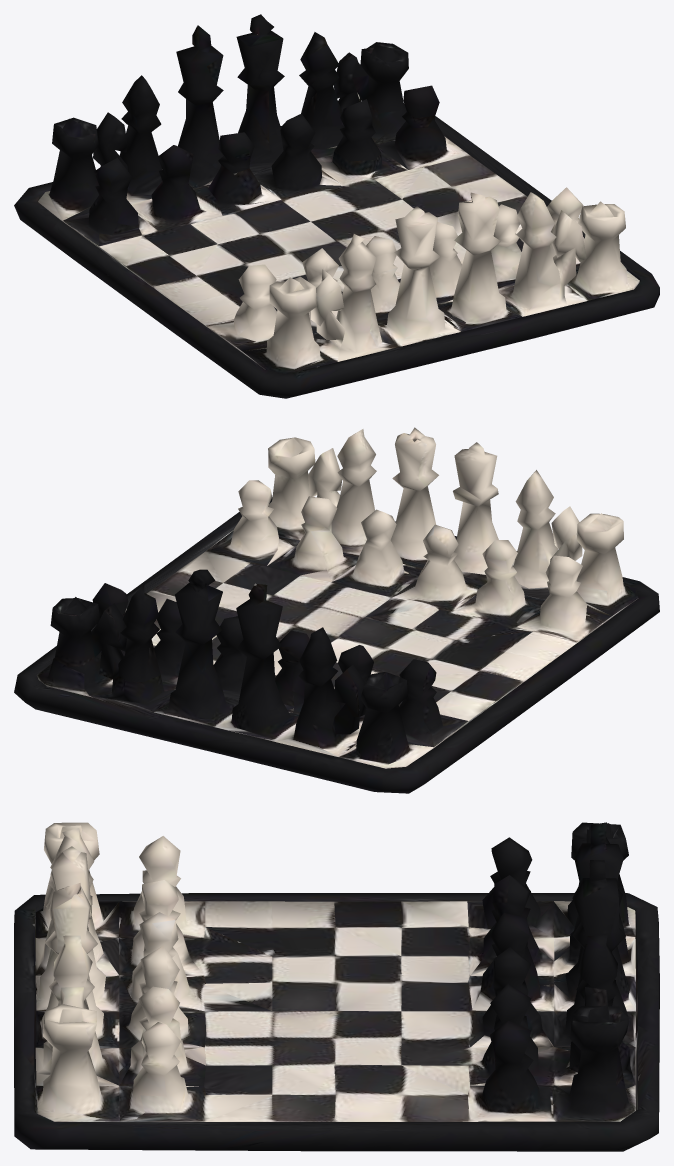
The model's file is chess.glb.
The picture shows the model from 3 angles, top to bottom: view 1: azimuth 30°, elevation 25°; view 2: azimuth 150°, elevation 25°; view 3: azimuth 270°, elevation 25°; orthographic projection. The views are drawn at different scales.
Visible parts, largest first — view 1: model; view 2: model; view 3: model.
Part boxes in pixels (<box>): model: <box>14,14,659,398</box>; model: <box>14,427,659,793</box>; model: <box>14,822,659,1151</box>.
Bounding box in the file's own units: 1.66 × 0.6358 × 1.89.
Materials: 1 (1 with a texture image).
